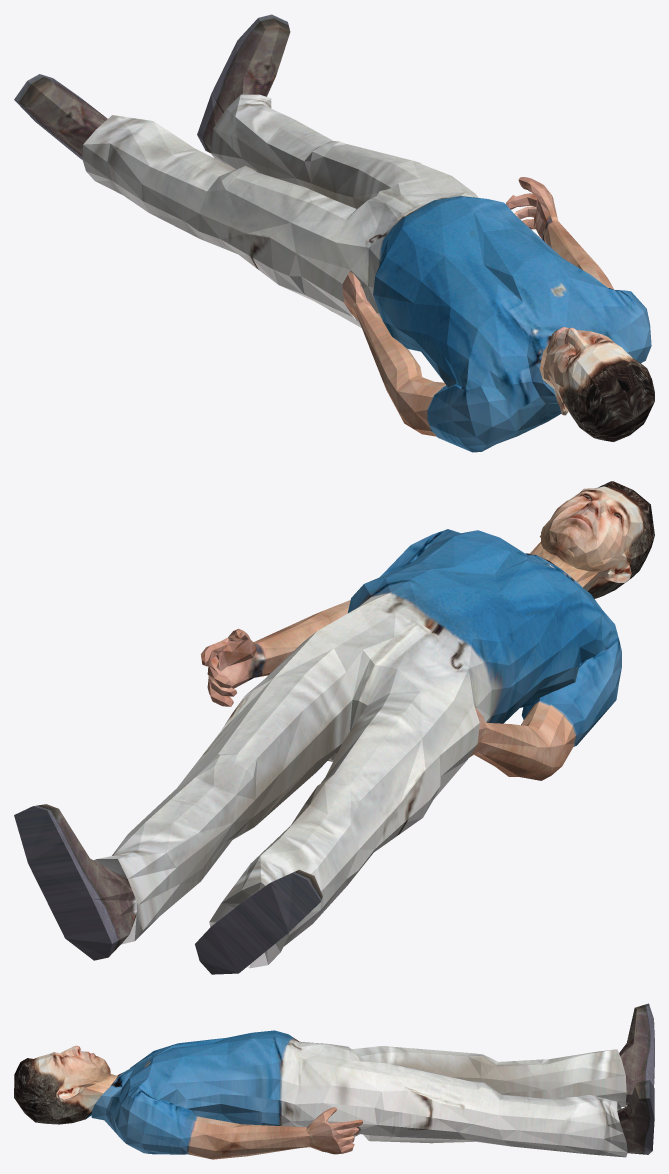
The model's file is man_blue_poloshirt.dae.
The picture shows the model from 3 angles, top to bottom: view 1: azimuth 30°, elevation 25°; view 2: azimuth 150°, elevation 25°; view 3: azimuth 270°, elevation 25°; orthographic projection. The views are drawn at different scales.
Visible parts, largest first — view 1: node; view 2: node; view 3: node.
Boxes of the visible parts, left/top/right/bottom form: node: left=14, top=14, right=654, bottom=452; node: left=14, top=481, right=654, bottom=974; node: left=14, top=1003, right=654, bottom=1159.
Bounding box in the file's own units: 0.7584 × 0.424 × 1.85.
1 material, 1 textured.
